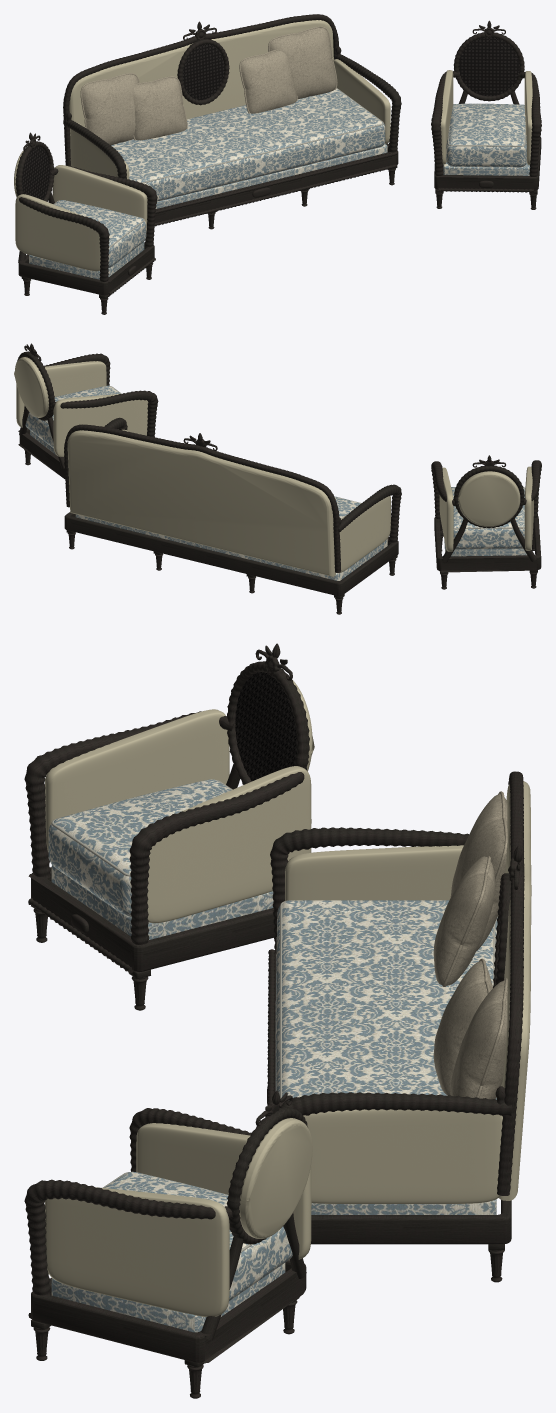
3 views of the same model, one above another, from view 1: azimuth 30°, elevation 25°; view 2: azimuth 150°, elevation 25°; view 3: azimuth 270°, elevation 25° (orthographic). The views are drawn at different scales.
Size of the model in its own units: 4.03 by 1.13 by 1.7.
Materials: 7 (7 with a texture image).
